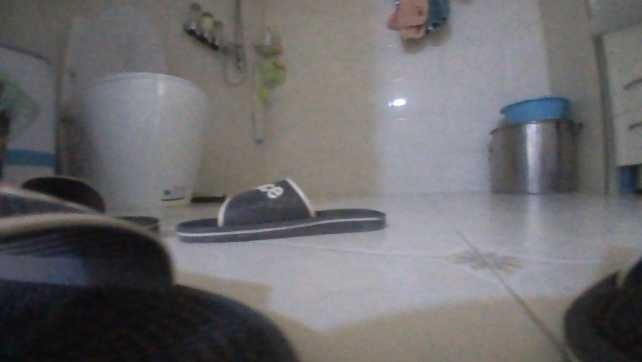slipper: (171, 175, 387, 247)
toilet: (56, 7, 208, 214)
